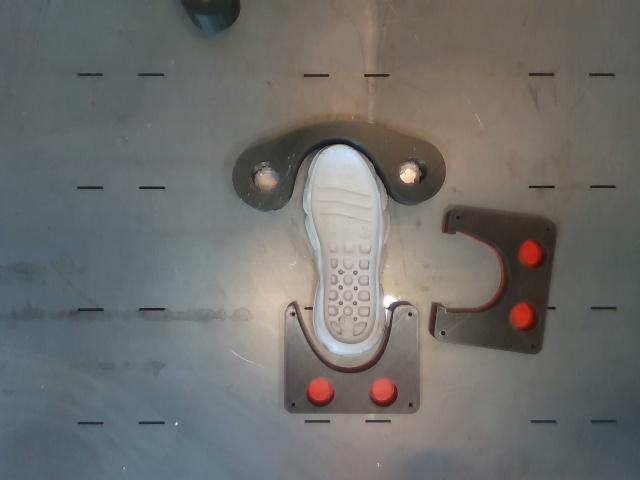shoes: (311, 146, 381, 345)
